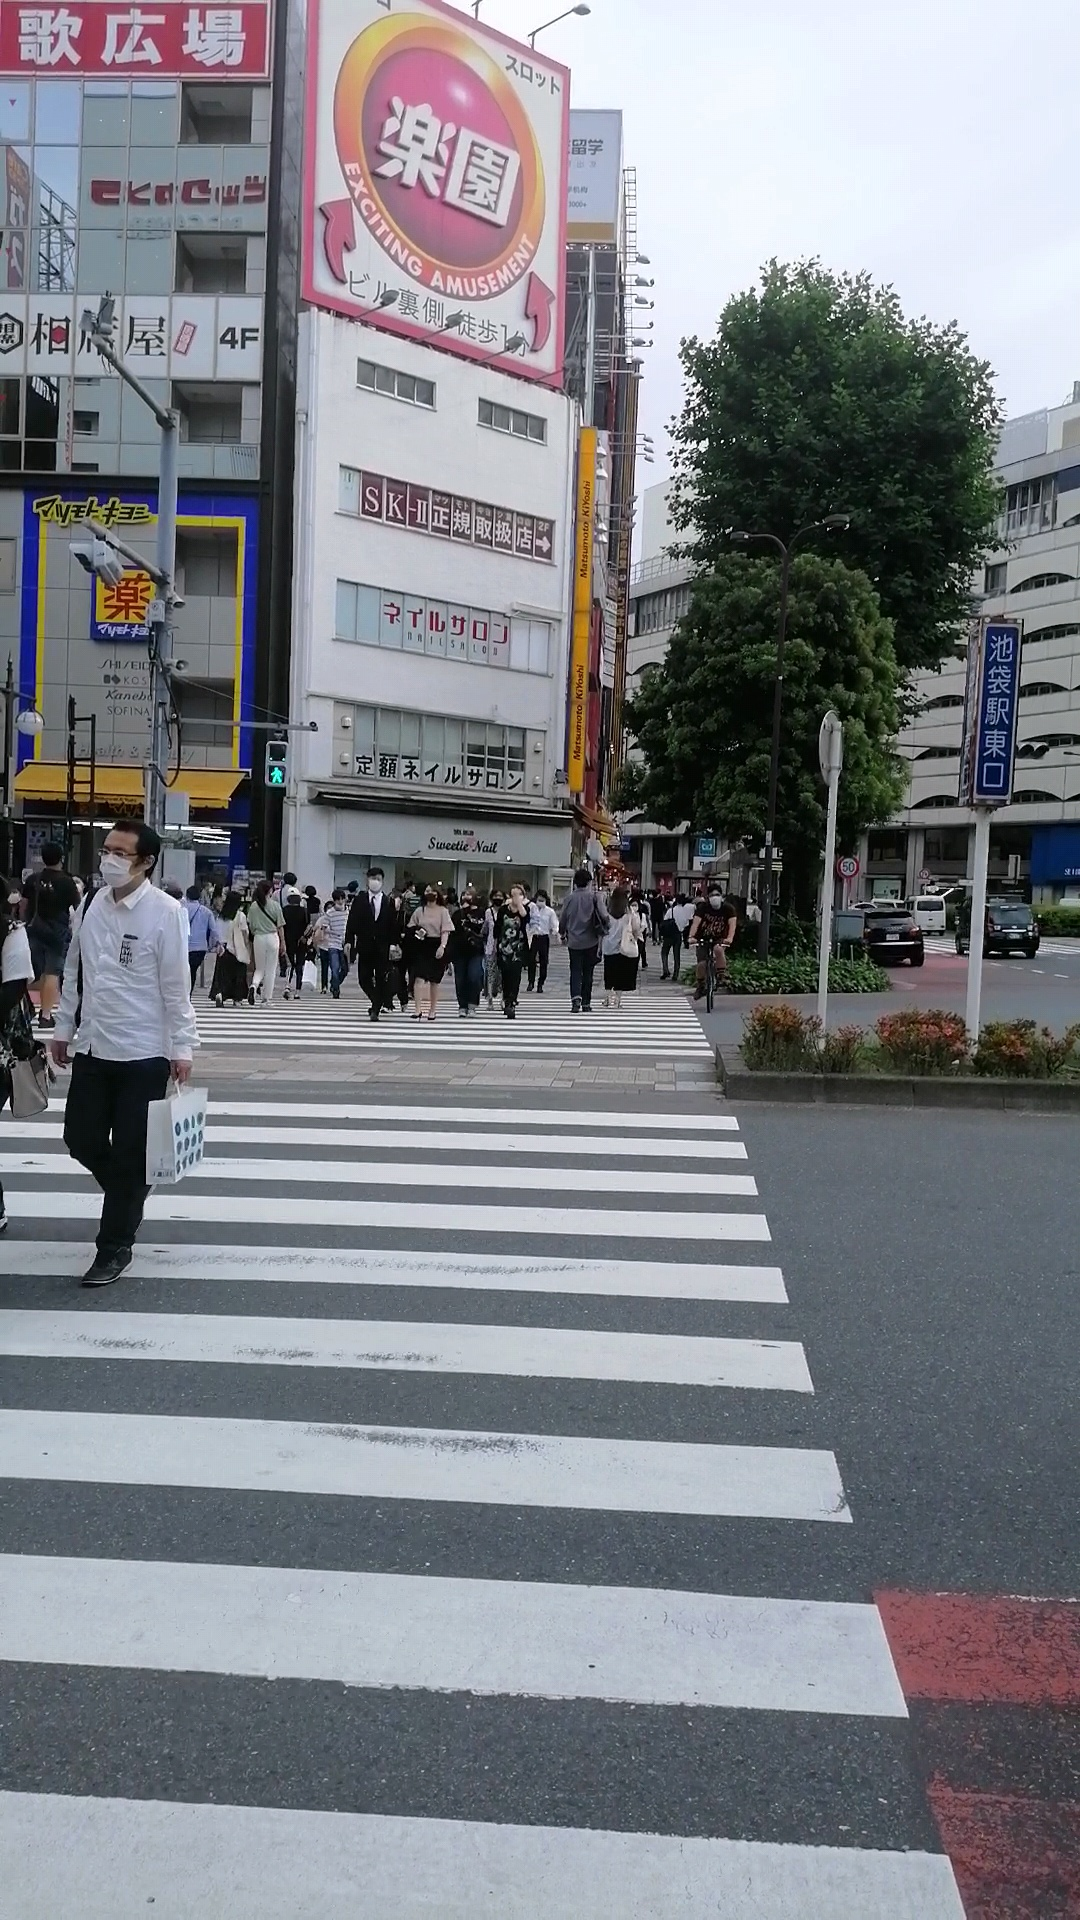green: (264, 741, 287, 787)
